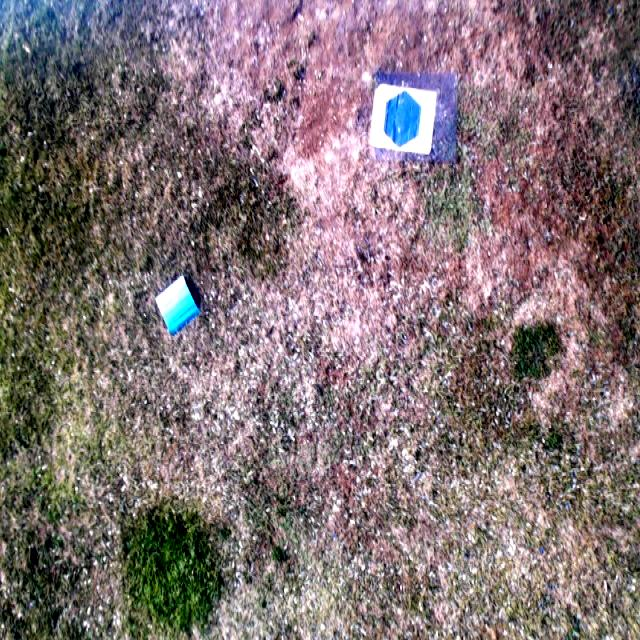blue_hexagon: (383, 89, 421, 148)
blue_square: (153, 275, 202, 339)
